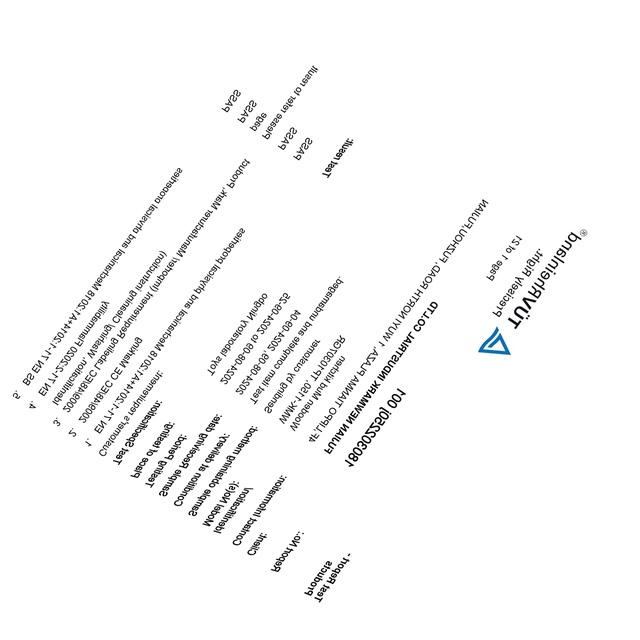tuv_rheinland: (473, 225, 588, 358)
